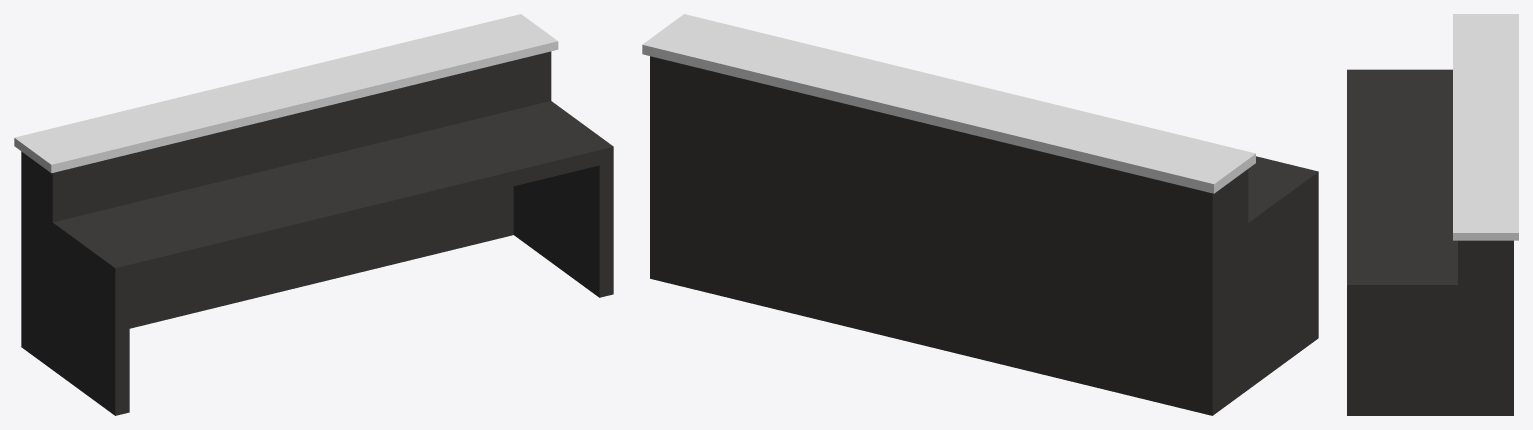
File: information desk.FBX
3 views of the same model, side by side, from view 1: azimuth 30°, elevation 25°; view 2: azimuth 150°, elevation 25°; view 3: azimuth 270°, elevation 25° (orthographic). The views are drawn at different scales.
Visible parts, largest first — view 1: information desk; view 2: information desk; view 3: information desk.
Part boxes in pixels (<box>): information desk: <box>14,14,613,415</box>; information desk: <box>642,14,1318,415</box>; information desk: <box>1347,14,1518,415</box>.
Size of the model in its own units: 279 by 110 by 92.49.
